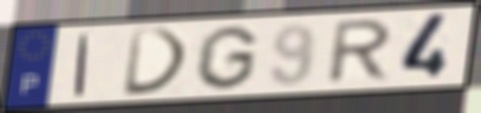4: (396, 10, 456, 85)
9: (268, 22, 321, 88)
D: (120, 26, 193, 99)
G: (192, 23, 262, 92)
I: (71, 32, 93, 98)
R: (322, 16, 397, 86)
